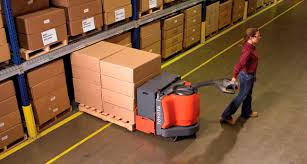Pallet Jack: (76, 71, 241, 141)
